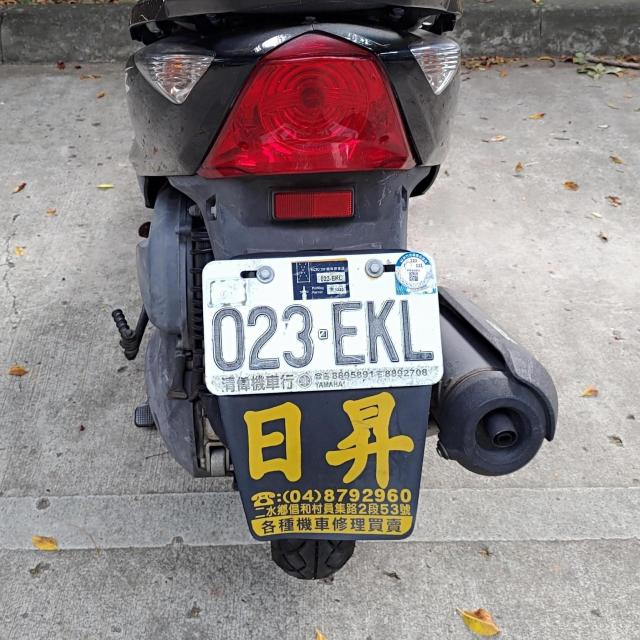W: (197, 248, 441, 398)
